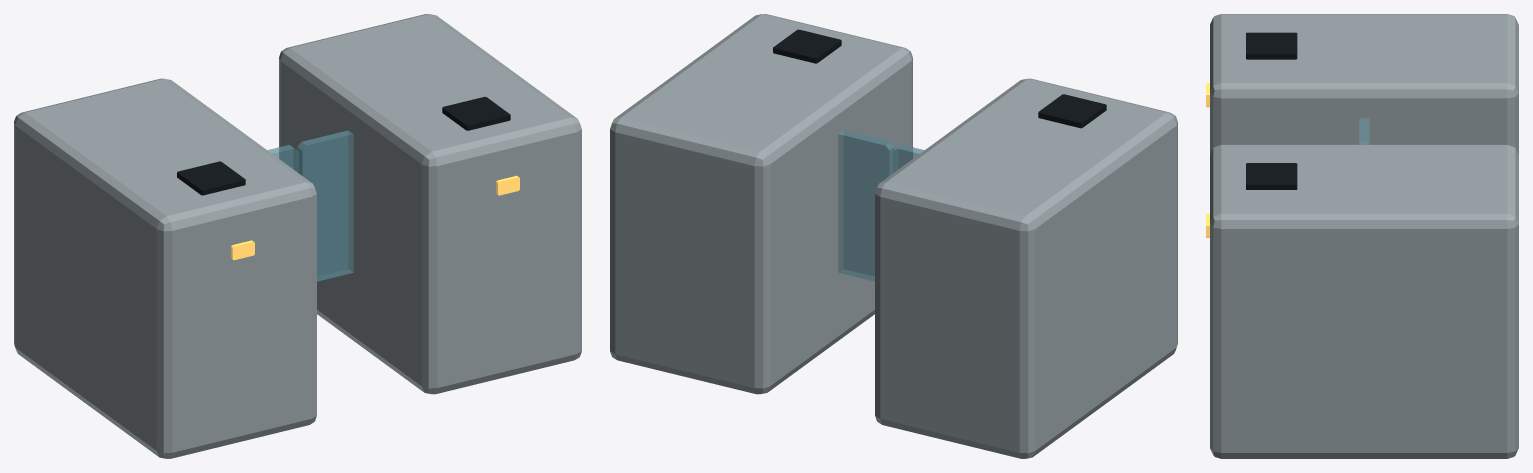
The model's file is sg-fare-gate.glb.
3 views of the same model, side by side, from view 1: azimuth 30°, elevation 25°; view 2: azimuth 150°, elevation 25°; view 3: azimuth 270°, elevation 25° (orthographic).
Visible parts, largest first — view 1: body, flap_R; view 2: body, flap_R; view 3: body.
Boxes of the visible parts, x1,y1,x2,y2 form: body: (14,14,581,458); flap_R: (297,130,353,281); body: (610,14,1177,458); flap_R: (838,130,894,281); body: (1206,14,1518,458).
Bounding box in the file's own units: 1.92 × 1.07 × 1.21.
